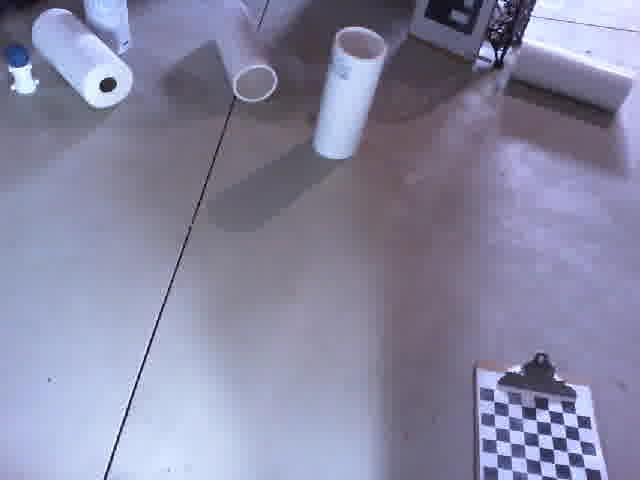coral: (33, 9, 135, 110), (315, 26, 385, 159), (209, 0, 276, 103)
